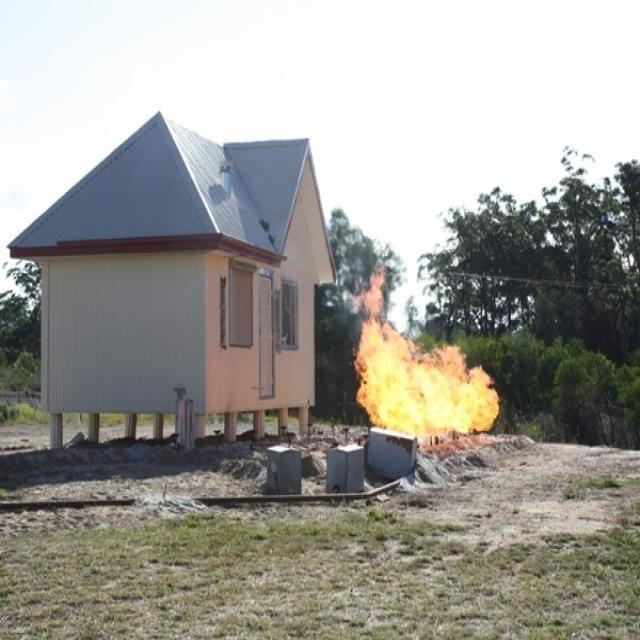Fire: (353, 312, 502, 432)
